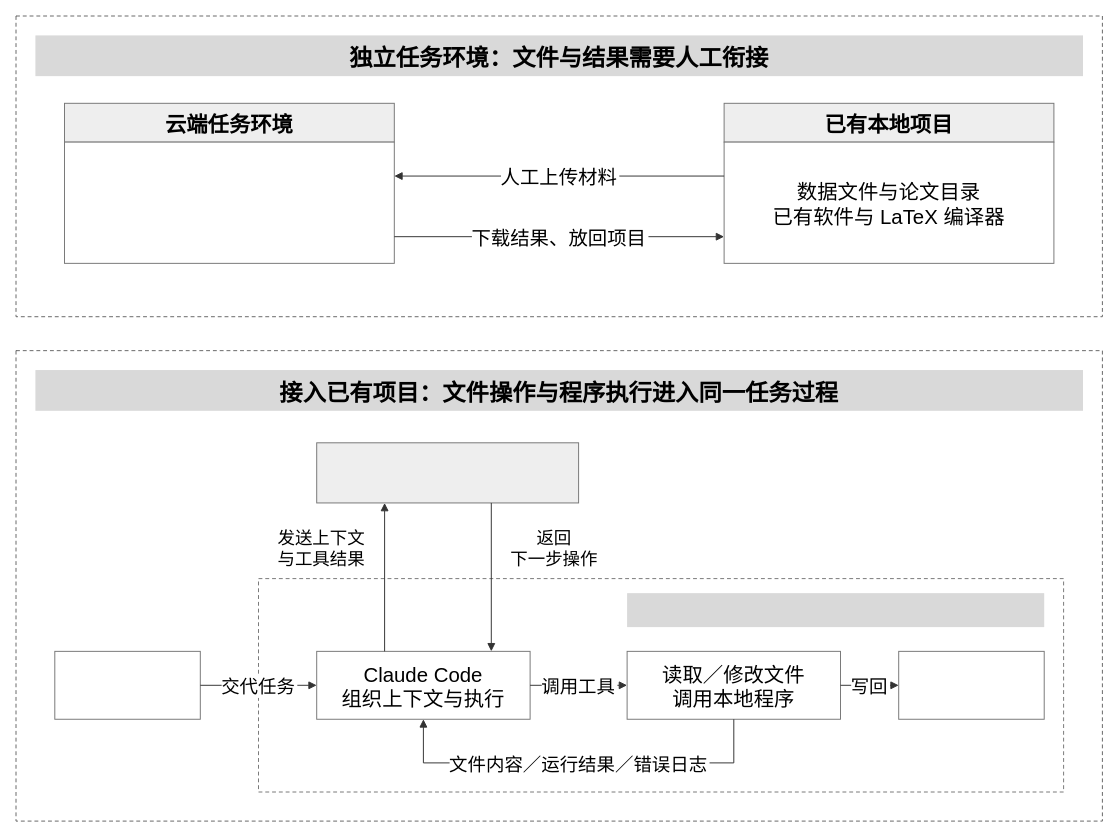
The diagram is 1118 pixels wide and 837 high, and some of its shapes have lost their labels. Each missing label, with the centre of its shape:
"本地项目与执行环境" goes at (x=835, y=610).
"模型与平台工具 在独立环境中生成内容或文件" goes at (x=229, y=202).
"模型服务（可在云端）" goes at (x=447, y=472).
"用户目标" goes at (x=127, y=684).
"项目文件 PDF／表格" goes at (x=971, y=684).
